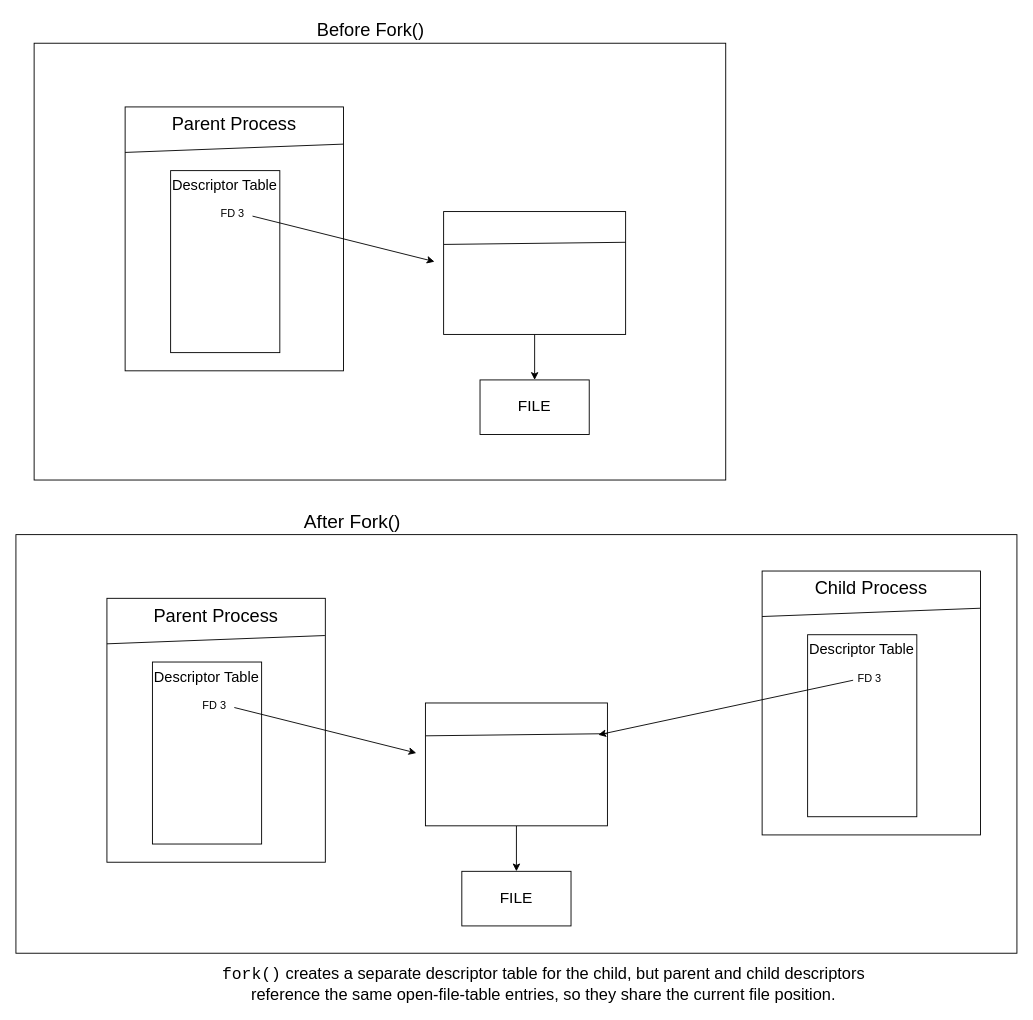
The diagram is 1033 pixels wide and 1020 high, and some of its shapes have lost their labels. The centre of each missing label's shape, as x and y in pixels:
Open File Table Position: 0 Ref Count: 1: pixel 534 272
Open File Table Position: 0 Ref Count: 2: pixel 516 764
